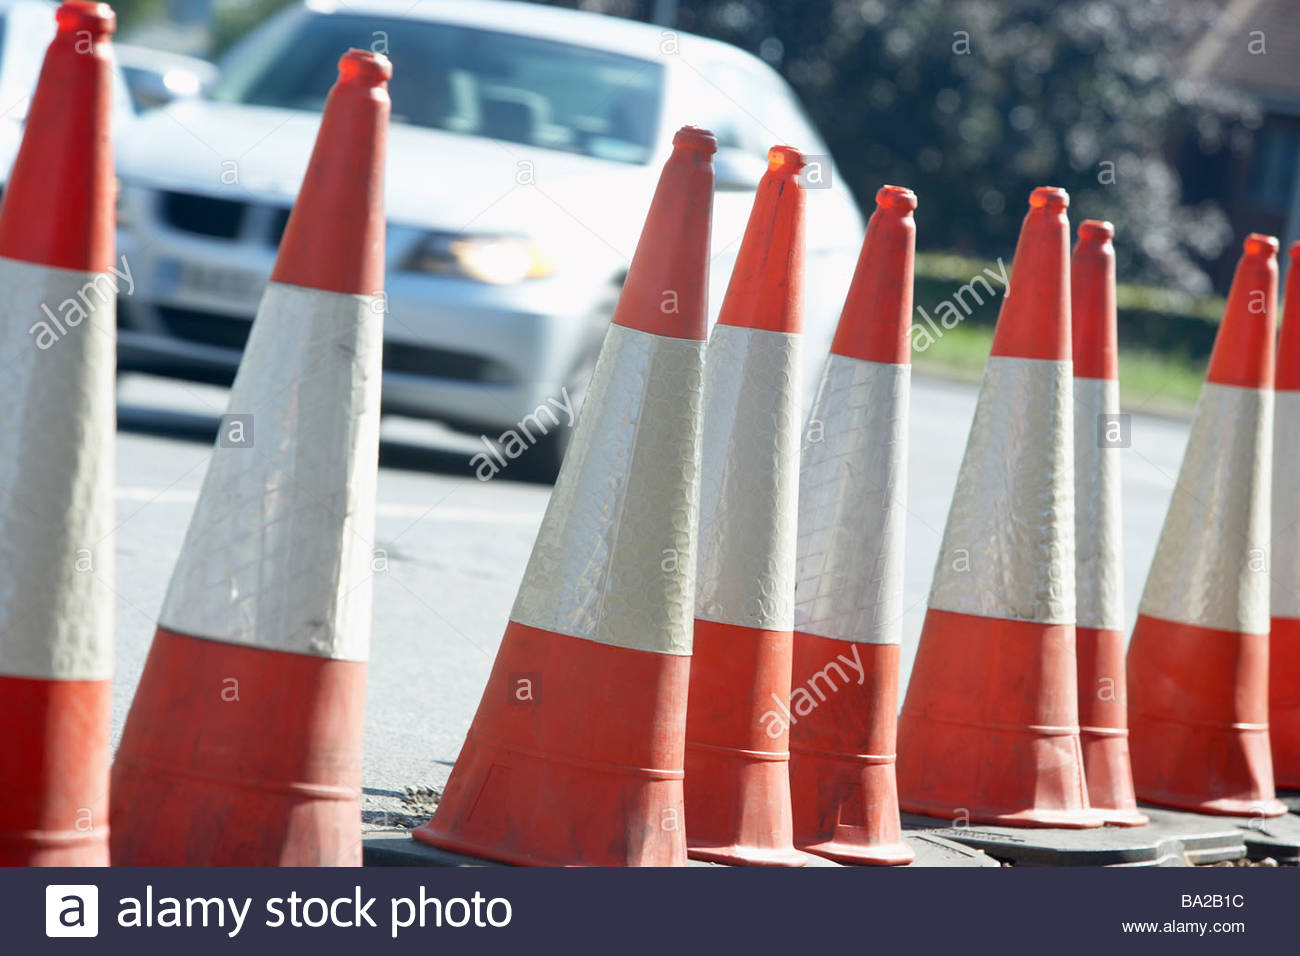cones: (139, 35, 409, 872), (435, 122, 695, 869), (722, 135, 927, 863), (941, 183, 1150, 832)
